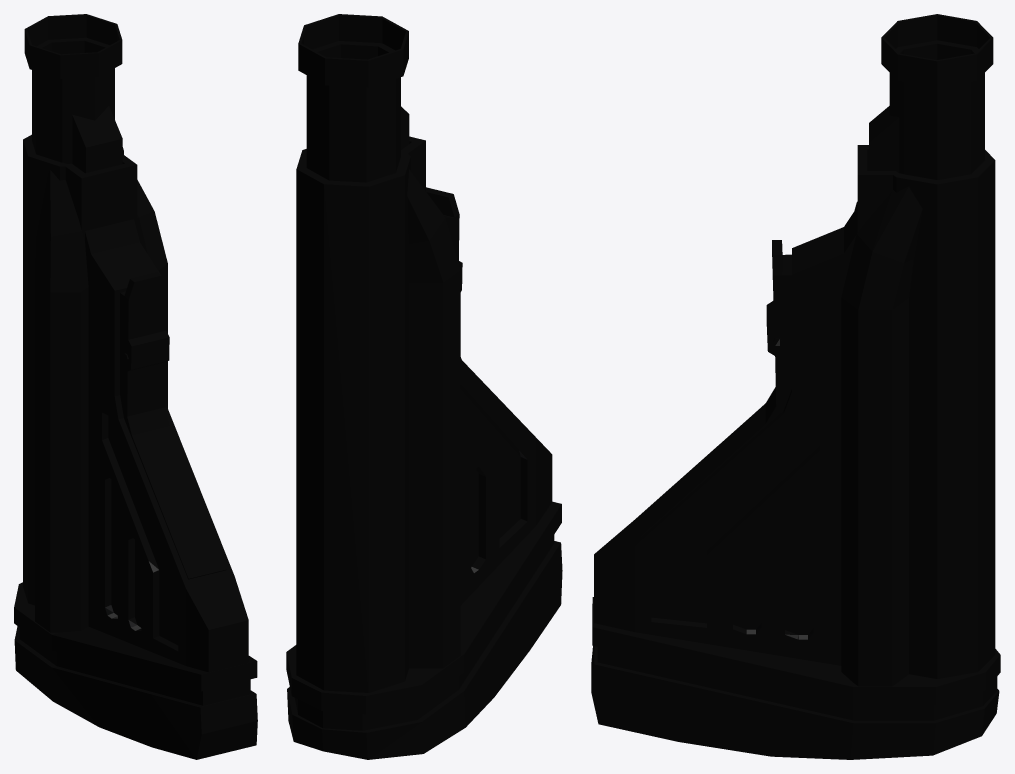
File: Stock_HK416.fbx
3 views of the same model, side by side, from view 1: azimuth 30°, elevation 25°; view 2: azimuth 150°, elevation 25°; view 3: azimuth 270°, elevation 25° (orthographic). The views are drawn at different scales.
Visible parts, largest first — view 1: asset_HK416.002; view 2: asset_HK416.002; view 3: asset_HK416.002.
Part boxes in pixels (x1,y1,x2,y2): asset_HK416.002: (14, 14, 257, 759); asset_HK416.002: (286, 14, 562, 759); asset_HK416.002: (591, 14, 1000, 759).
Size of the model in its own units: 0.0304 by 0.1515 by 0.0812.
